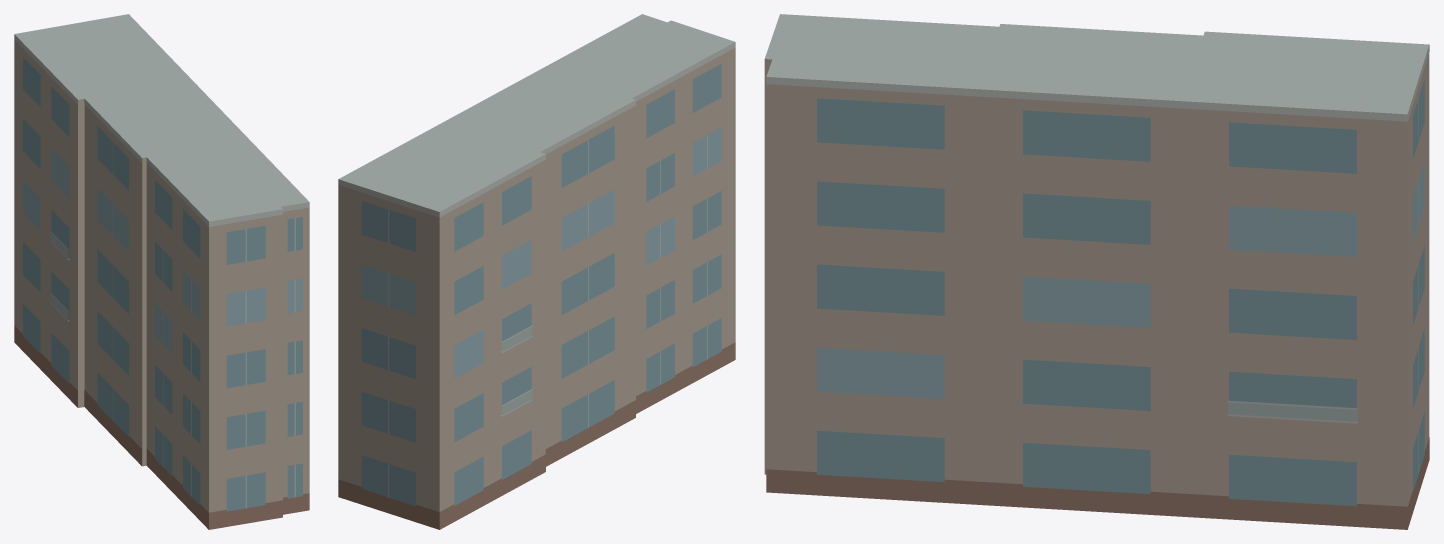
The model's file is survey-upis-33042643.glb.
3 renders of one model, left to right at view 1: azimuth 30°, elevation 25°; view 2: azimuth 150°, elevation 25°; view 3: azimuth 270°, elevation 25°, orthographic. The views are drawn at different scales.
Parts seen in each view (by area): view 1: survey-upis-33042643.tmp; view 2: survey-upis-33042643.tmp; view 3: survey-upis-33042643.tmp.
Part boxes in pixels (bbox=[...]): survey-upis-33042643.tmp: bbox=[14, 14, 309, 529]; survey-upis-33042643.tmp: bbox=[338, 14, 735, 529]; survey-upis-33042643.tmp: bbox=[764, 14, 1429, 529].
Size of the model in its own units: 7.24 by 13.95 by 20.24.
